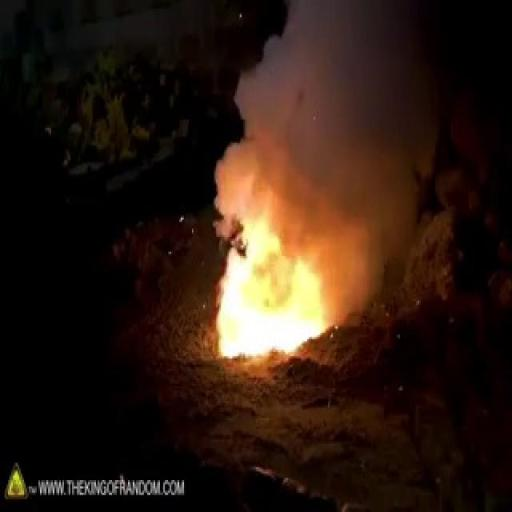smoke: (208, 164, 333, 367)
